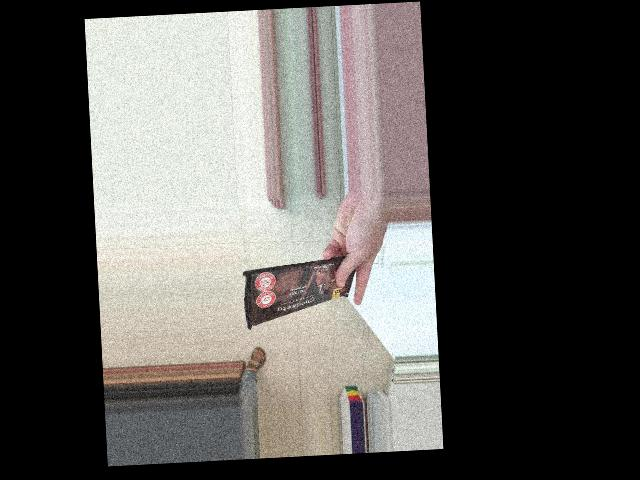chocolate: (237, 249, 367, 332)
